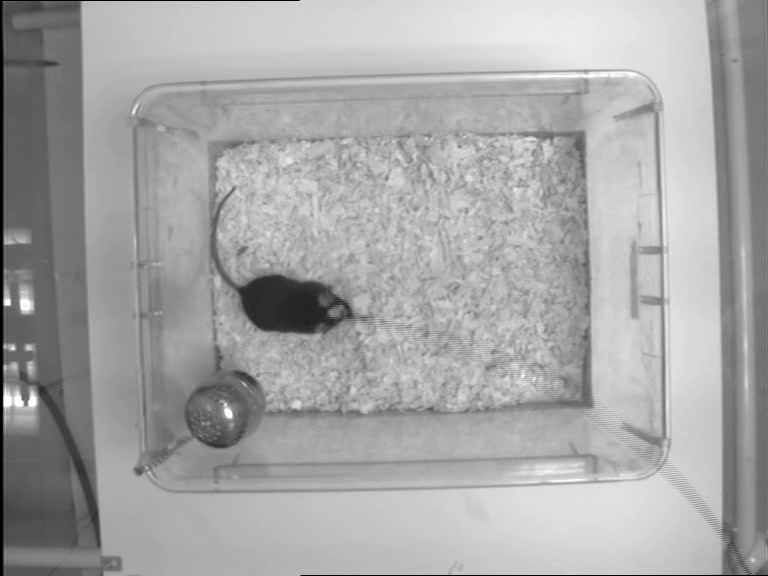mice: (210, 186, 354, 333)
